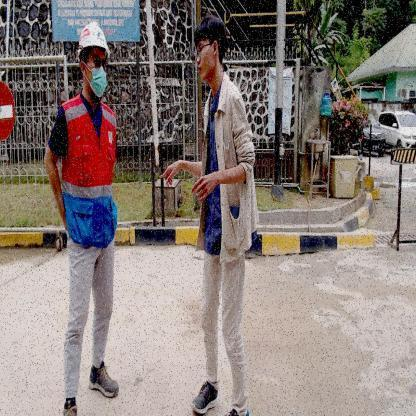boots: (86, 360, 122, 400), (189, 376, 219, 414), (60, 394, 79, 416)
helmet: (74, 18, 113, 56)
mask: (86, 66, 110, 98)
